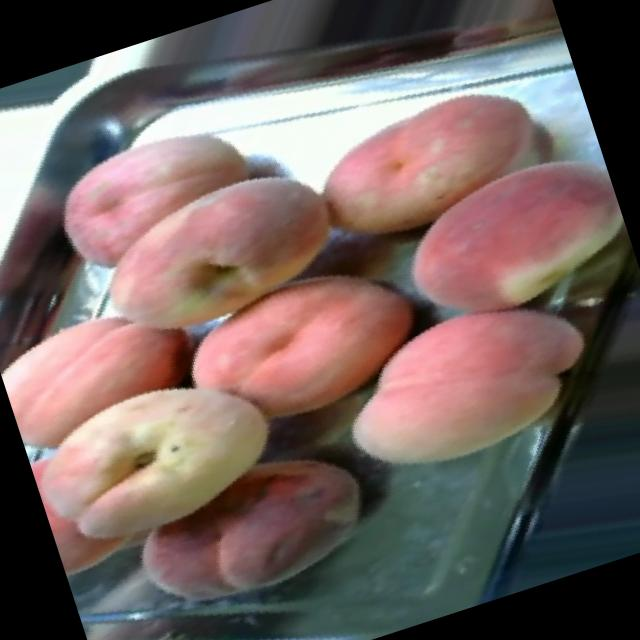Fruit: (42, 125, 382, 383), (312, 256, 634, 517), (19, 348, 314, 592), (155, 239, 454, 469), (103, 411, 403, 640), (365, 123, 640, 362), (288, 52, 576, 280), (0, 258, 235, 472)
